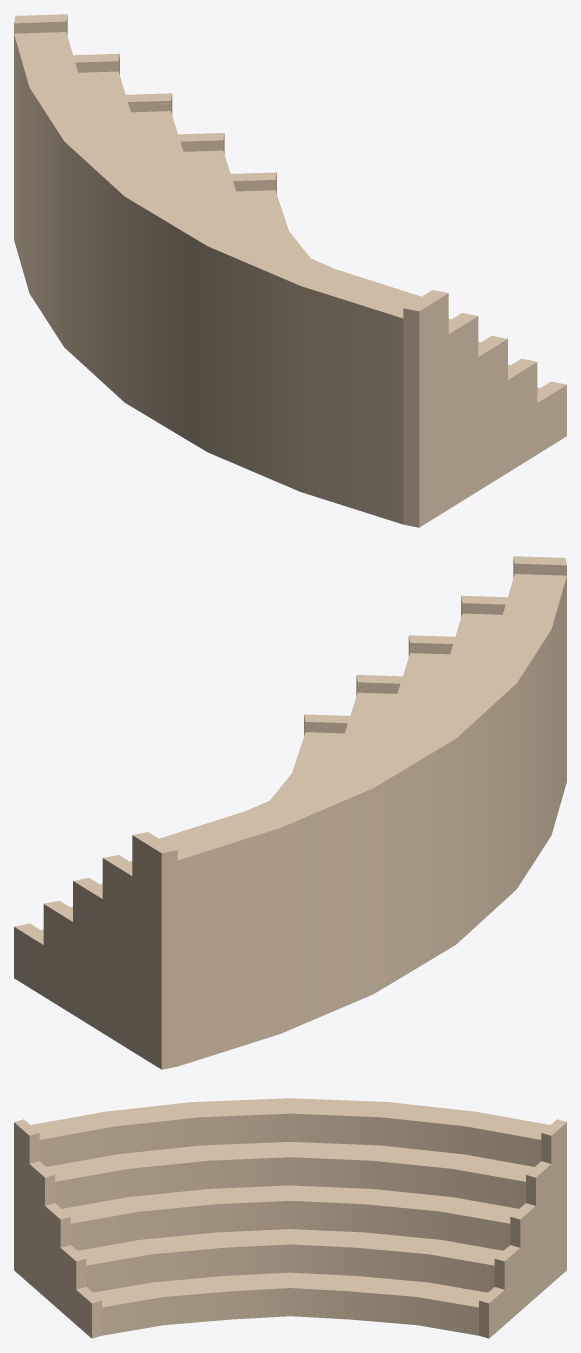
The model's file is ChonkTribuene_final.fbx.
The picture shows the model from 3 angles, top to bottom: view 1: azimuth 30°, elevation 25°; view 2: azimuth 150°, elevation 25°; view 3: azimuth 270°, elevation 25°; orthographic projection. The views are drawn at different scales.
Visible parts, largest first — view 1: Tribüne; view 2: Tribüne; view 3: Tribüne.
Part boxes in pixels (x1,y1,x2,y2): Tribüne: (14, 14, 566, 527); Tribüne: (14, 556, 566, 1069); Tribüne: (14, 1098, 566, 1338).
Size of the model in its own units: 302 by 210 by 710.
